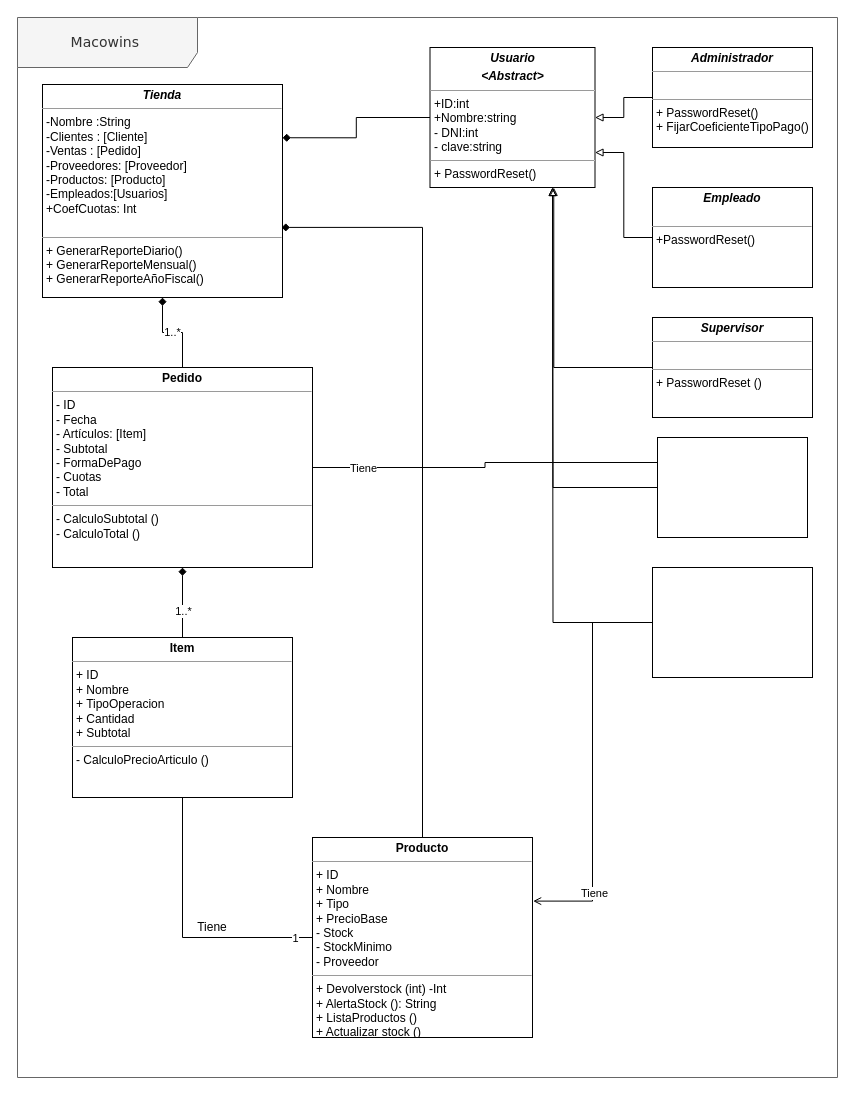
Some shapes in this 855 by 1095 pixel diagram are drawn without their labels. Each missing label, with the centre of its shape:
"Cliente + VerPuntos ()" goes at (x=732, y=487).
"Proveedor -VerDeuda()" goes at (x=732, y=622).
